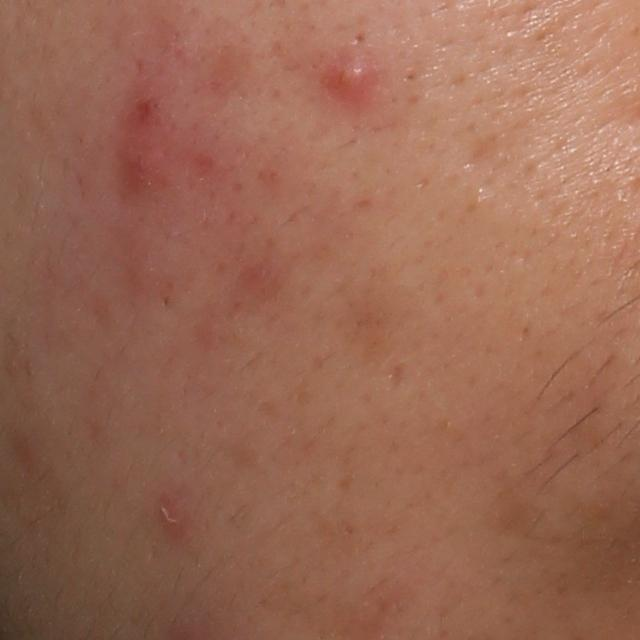atrophic_scar: (385, 353, 409, 397)
papule: (121, 84, 169, 141), (122, 144, 166, 193), (327, 54, 378, 96), (156, 490, 186, 531)
